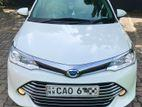car: (8, 1, 137, 107)
